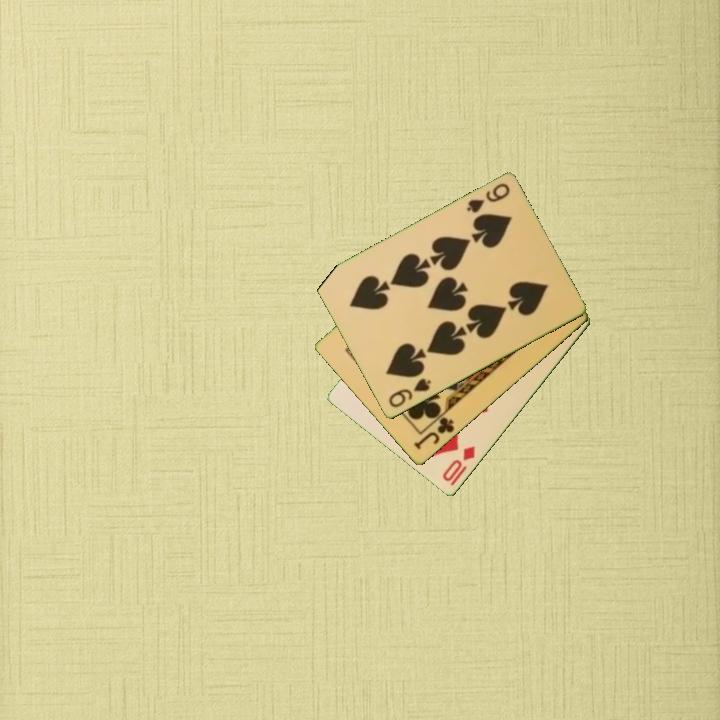10d: (439, 443, 478, 485)
9s: (463, 180, 513, 216), (385, 375, 434, 411)
Jc: (410, 414, 457, 453)
